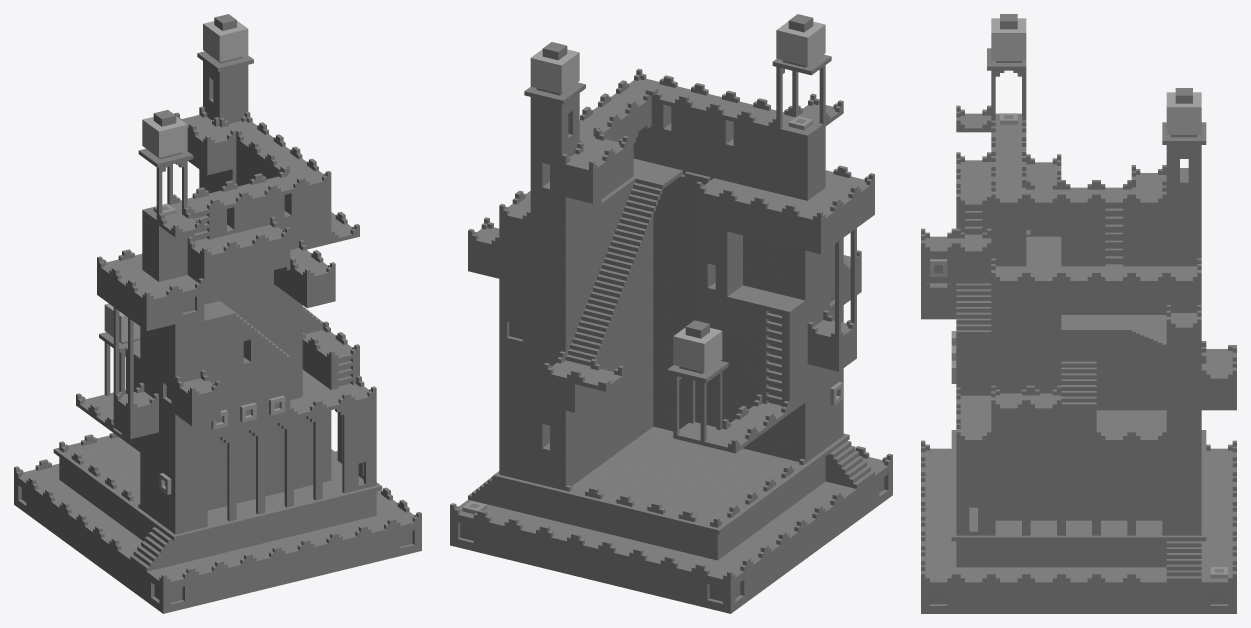
File: wood.obj
3 renders of one model, left to right at view 1: azimuth 30°, elevation 25°; view 2: azimuth 150°, elevation 25°; view 3: azimuth 270°, elevation 25°, orthographic. The views are drawn at different scales.
Size of the model in its own units: 7.2 by 12.2 by 7.2.
